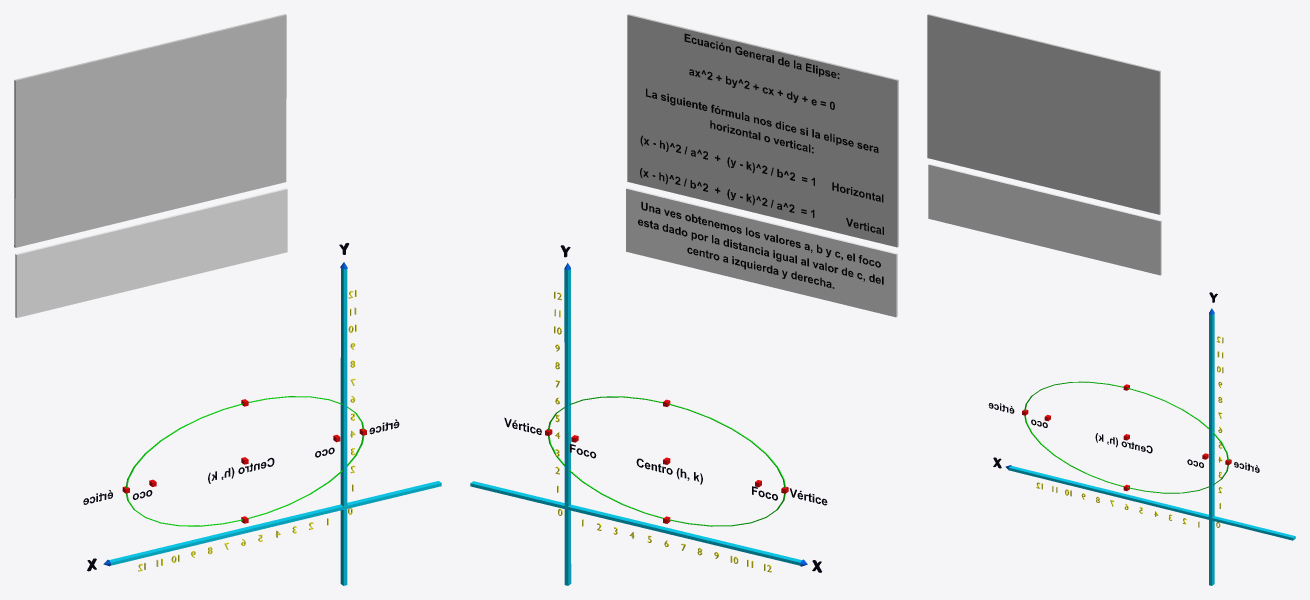
Rendered from e-elipse.fbx.
3 renders of one model, left to right at view 1: azimuth 30°, elevation 25°; view 2: azimuth 150°, elevation 25°; view 3: azimuth 330°, elevation 25°, orthographic. The views are drawn at different scales.
Parts seen in each view (by area): view 1: Cubo.004, Cubo.002, Cubo.001, Cubo, Surface.001; view 2: Cubo.004, Cubo.002, Text.030, Text.034, Cubo, Cubo.001, Surface.001; view 3: Cubo.004, Cubo.002, Cubo, Cubo.001, Surface.001.
Boxes of the visible parts, <box> form: Cubo.004: <box>14,14,286,247</box>; Cubo.002: <box>15,188,287,317</box>; Cubo.001: <box>340,268,347,585</box>; Cubo: <box>109,481,441,565</box>; Surface.001: <box>125,396,364,526</box>; Cubo.004: <box>627,14,898,247</box>; Cubo.002: <box>626,188,897,317</box>; Text.030: <box>640,33,883,234</box>; Text.034: <box>638,201,883,288</box>; Cubo: <box>470,481,801,565</box>; Cubo.001: <box>564,269,571,585</box>; Surface.001: <box>548,396,785,526</box>; Cubo.004: <box>927,14,1160,214</box>; Cubo.002: <box>928,164,1161,275</box>; Cubo: <box>1008,466,1295,540</box>; Cubo.001: <box>1209,314,1214,585</box>; Surface.001: <box>1024,381,1228,493</box>.
Size of the model in its own units: 508 by 666 by 8.65.
